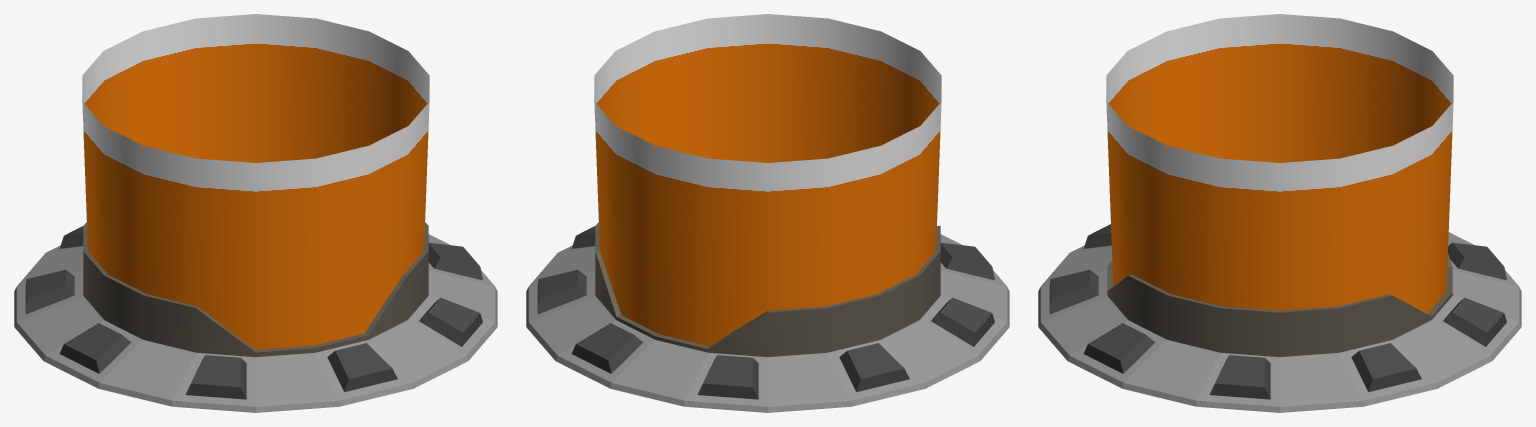
Rendered from teleport_portal.FBX.
3 renders of one model, left to right at view 1: azimuth 30°, elevation 25°; view 2: azimuth 150°, elevation 25°; view 3: azimuth 270°, elevation 25°, orthographic.
Parts seen in each view (by area): view 1: Cylinder002, Cylinder001; view 2: Cylinder002, Cylinder001; view 3: Cylinder002, Cylinder001.
Boxes of the visible parts, x1,y1,x2,y2 form: Cylinder002: (82, 14, 429, 349); Cylinder001: (14, 222, 497, 412); Cylinder002: (594, 14, 941, 346); Cylinder001: (526, 222, 1009, 412); Cylinder002: (1106, 14, 1453, 313); Cylinder001: (1038, 224, 1521, 412).
Bounding box in the file's own units: 80.77 × 40.11 × 79.55.
